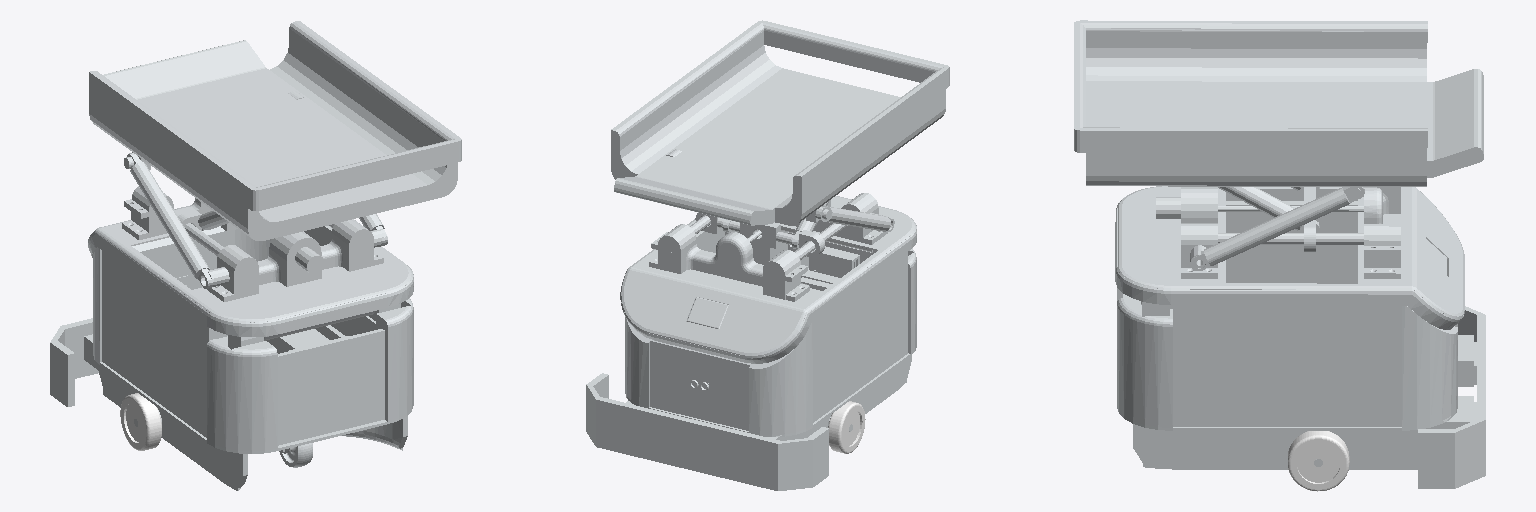
URDF robot description (final assembly.SLDASM):
<?xml version="1.0" encoding="utf-8"?>
<!-- This URDF was automatically created by SolidWorks to URDF Exporter! Originally created by [author] ([email redacted]) 
     Commit Version: 1.6.0-1-g15f4949  Build Version: 1.6.7594.29634
     For more information, please see http://wiki.ros.org/sw_urdf_exporter -->
<robot
  name="final assembly.SLDASM">
  <link
    name="base_link">
    <inertial>
      <origin
        xyz="0.0013667 -0.0051759 0.59582"
        rpy="0 0 0" />
      <mass
        value="48.317" />
      <inertia
        ixx="0.9334"
        ixy="-0.00020965"
        ixz="0.0031313"
        iyy="1.3776"
        iyz="-0.017266"
        izz="0.60198" />
    </inertial>
    <visual>
      <origin
        xyz="0 0 0"
        rpy="0 0 0" />
      <geometry>
        <mesh
          filename="package://final assembly.SLDASM/meshes/base_link.STL" />
      </geometry>
      <material
        name="">
        <color
          rgba="0.89804 0.91765 0.92941 1" />
      </material>
    </visual>
    <collision>
      <origin
        xyz="0 0 0"
        rpy="0 0 0" />
      <geometry>
        <mesh
          filename="package://final assembly.SLDASM/meshes/base_link.STL" />
      </geometry>
    </collision>
  </link>
  <link
    name="L_Link">
    <inertial>
      <origin
        xyz="-2.7756E-17 0 0"
        rpy="0 0 0" />
      <mass
        value="0.18269" />
      <inertia
        ixx="0.00025245"
        ixy="-4.3584E-37"
        ixz="3.1357E-37"
        iyy="0.00013662"
        iyz="1.7357E-37"
        izz="0.00013662" />
    </inertial>
    <visual>
      <origin
        xyz="0 0 0"
        rpy="0 0 0" />
      <geometry>
        <mesh
          filename="package://final assembly.SLDASM/meshes/L_Link.STL" />
      </geometry>
      <material
        name="">
        <color
          rgba="1 1 1 1" />
      </material>
    </visual>
    <collision>
      <origin
        xyz="0 0 0"
        rpy="0 0 0" />
      <geometry>
        <mesh
          filename="package://final assembly.SLDASM/meshes/L_Link.STL" />
      </geometry>
    </collision>
  </link>
  <joint
    name="joint_L"
    type="continuous">
    <origin
      xyz="-0.19418 -0.5675 -0.16331"
      rpy="1.5708 0 0" />
    <parent
      link="base_link" />
    <child
      link="L_Link" />
    <axis
      xyz="0 0 0" />
  </joint>
  <link
    name="R_Link">
    <inertial>
      <origin
        xyz="0 0 0"
        rpy="0 0 0" />
      <mass
        value="0.18269" />
      <inertia
        ixx="0.00025245"
        ixy="-5.5928E-22"
        ixz="1.0751E-21"
        iyy="0.00013662"
        iyz="0"
        izz="0.00013662" />
    </inertial>
    <visual>
      <origin
        xyz="0 0 0"
        rpy="0 0 0" />
      <geometry>
        <mesh
          filename="package://final assembly.SLDASM/meshes/R_Link.STL" />
      </geometry>
      <material
        name="">
        <color
          rgba="1 1 1 1" />
      </material>
    </visual>
    <collision>
      <origin
        xyz="0 0 0"
        rpy="0 0 0" />
      <geometry>
        <mesh
          filename="package://final assembly.SLDASM/meshes/R_Link.STL" />
      </geometry>
    </collision>
  </link>
  <joint
    name="joint_R"
    type="continuous">
    <origin
      xyz="0.19582 -0.5675 -0.16331"
      rpy="2.8263 0 3.1416" />
    <parent
      link="base_link" />
    <child
      link="R_Link" />
    <axis
      xyz="0 0 0" />
  </joint>
</robot>

--- Facts derived from the render (not from the file) ---
3 views of the same robot in one strip: view 1: azimuth 30°, elevation 25°; view 2: azimuth 150°, elevation 25°; view 3: azimuth 270°, elevation 25° (orthographic).
Model final assembly.SLDASM with 3 links and 2 joints (2 continuous), rooted at base_link, posed every joint at zero.
Links seen in each view (by area): view 1: base_link, L_Link; view 2: base_link, L_Link; view 3: base_link, R_Link.
Link boxes in pixels (x1,y1,x2,y2): base_link: [50, 21, 461, 490]; L_Link: [120, 393, 161, 450]; base_link: [586, 20, 949, 490]; L_Link: [828, 401, 865, 453]; base_link: [1074, 20, 1485, 488]; R_Link: [1288, 431, 1349, 491].
Bounding box of the posed robot: 0.499 × 0.6644 × 0.6497 m (x, y, z).
Meshes: 3 distinct files referenced, 3 mesh visuals loaded (3 binary STL).